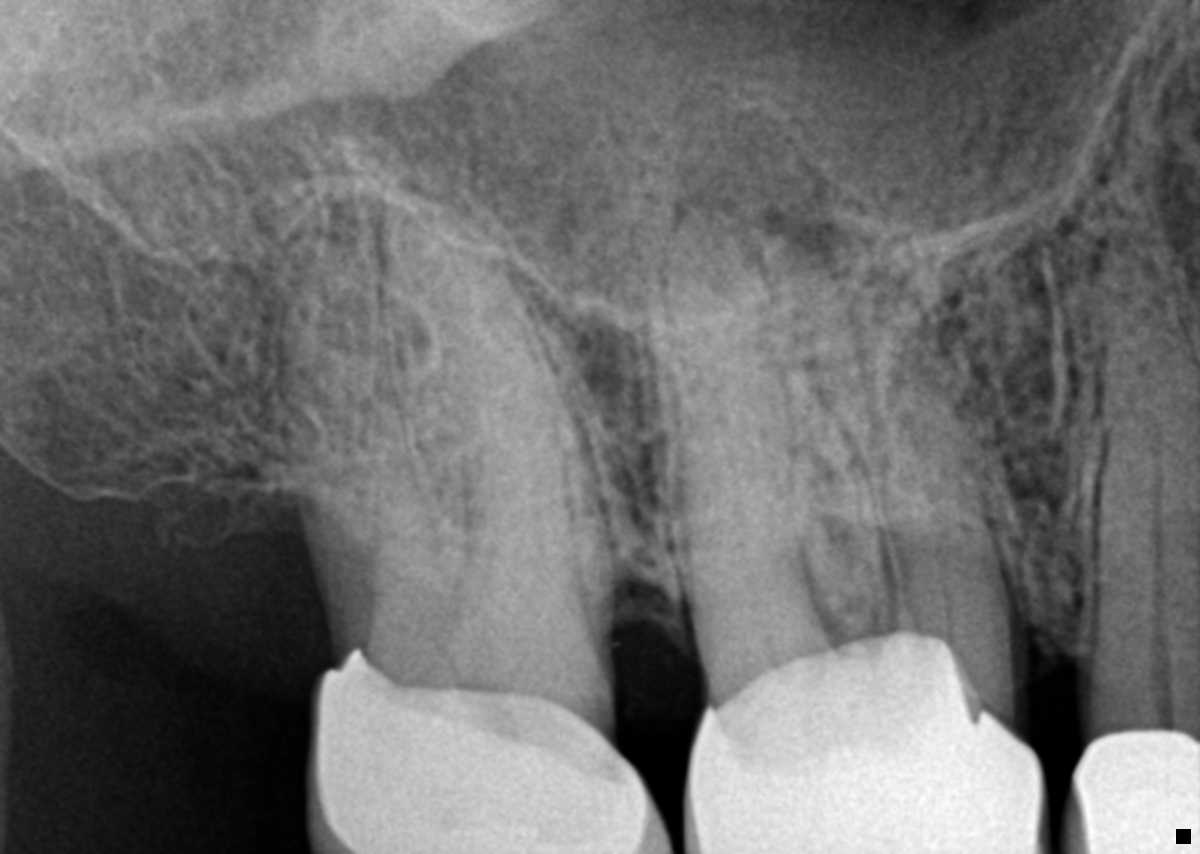Apical Lesion: (663, 97, 840, 258), (886, 315, 996, 443)
Distal Root: (672, 359, 835, 691), (277, 274, 440, 603)
Main Canal: (923, 488, 959, 645), (1147, 402, 1167, 652)
Main Root: (1086, 236, 1200, 657)
Mesial Root: (444, 299, 585, 613), (882, 376, 1013, 655)
Palatal Root: (671, 207, 932, 695), (365, 188, 614, 605)
